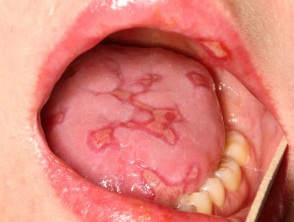SJS-TEN: (86, 58, 188, 154), (132, 161, 202, 212), (193, 27, 234, 68), (41, 106, 69, 143), (183, 63, 214, 96)
